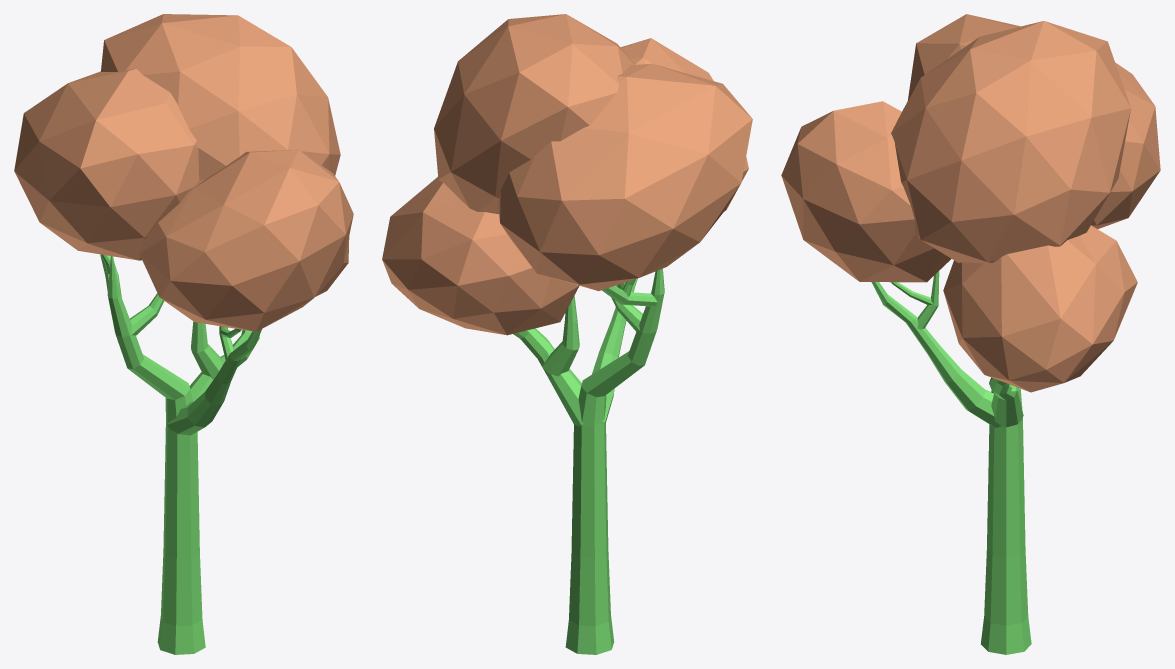
The model's file is 9Remake.fbx.
3 renders of one model, left to right at view 1: azimuth 30°, elevation 25°; view 2: azimuth 150°, elevation 25°; view 3: azimuth 270°, elevation 25°, orthographic. The views are drawn at different scales.
Parts seen in each view (by area): view 1: Icosphere.012; view 2: Icosphere.012; view 3: Icosphere.012.
Boxes of the visible parts, box(x1,y1,x2,y2) form: Icosphere.012: box(14, 14, 353, 654); Icosphere.012: box(382, 14, 752, 654); Icosphere.012: box(781, 14, 1160, 654).
Bounding box in the file's own units: 354 × 639 × 353.
